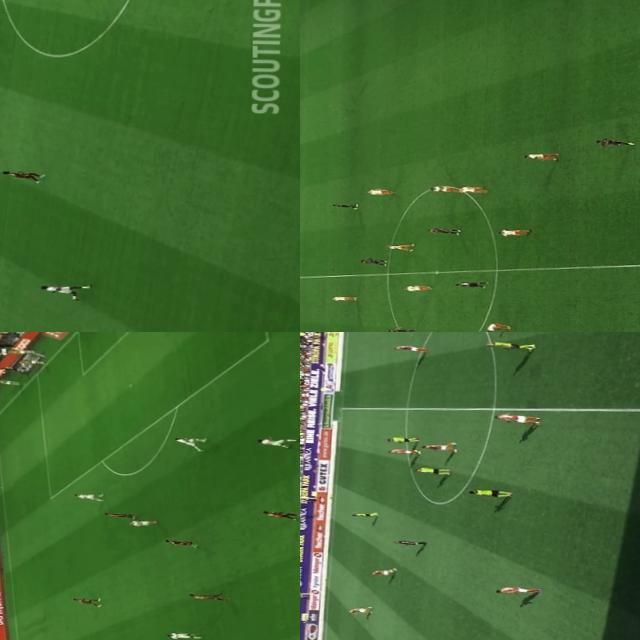player: (38, 281, 90, 298), (0, 168, 46, 182), (258, 434, 300, 449), (593, 134, 635, 148), (168, 433, 206, 448), (494, 223, 534, 236), (420, 439, 460, 452), (408, 463, 448, 476), (485, 338, 535, 348), (493, 413, 538, 424), (523, 149, 561, 162), (258, 508, 298, 520), (100, 508, 138, 520), (470, 487, 510, 498), (493, 584, 536, 594), (188, 590, 222, 602), (70, 490, 108, 500), (389, 342, 427, 352), (452, 278, 484, 289), (345, 604, 377, 615), (163, 536, 200, 545), (479, 320, 509, 331), (368, 566, 398, 577), (455, 185, 489, 194), (430, 183, 464, 192), (124, 517, 158, 526), (328, 199, 358, 209), (386, 434, 415, 444), (168, 630, 200, 639), (388, 445, 420, 454), (328, 293, 362, 301), (64, 596, 98, 604), (358, 257, 388, 265), (387, 242, 417, 250), (430, 226, 460, 234), (390, 324, 418, 332), (351, 510, 376, 518), (405, 283, 429, 291), (368, 186, 394, 192), (560, 637, 612, 640)
